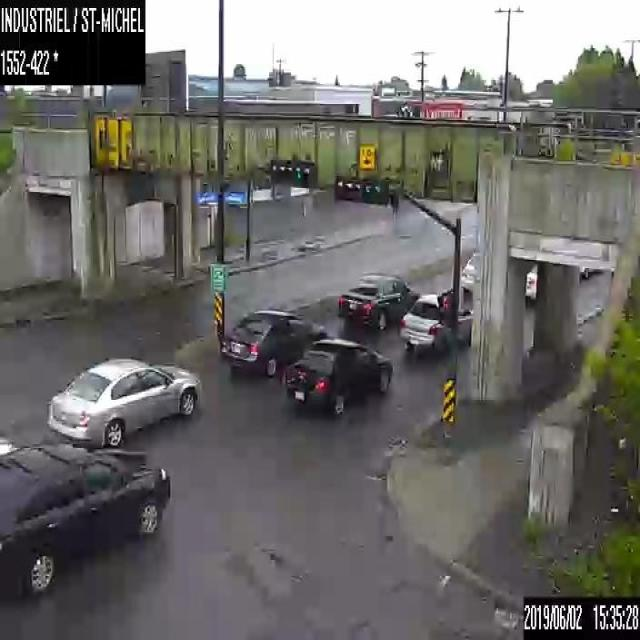vehicle: (0, 440, 169, 597), (47, 357, 199, 448), (283, 335, 392, 414), (218, 306, 327, 378), (334, 270, 420, 327), (400, 292, 472, 354), (460, 251, 476, 293), (579, 263, 613, 277), (524, 260, 536, 299)
